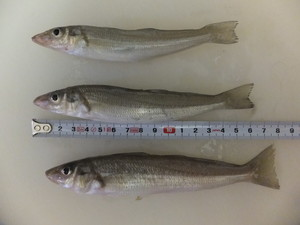kiss: (41, 146, 280, 197), (30, 13, 241, 68), (33, 80, 264, 124)
